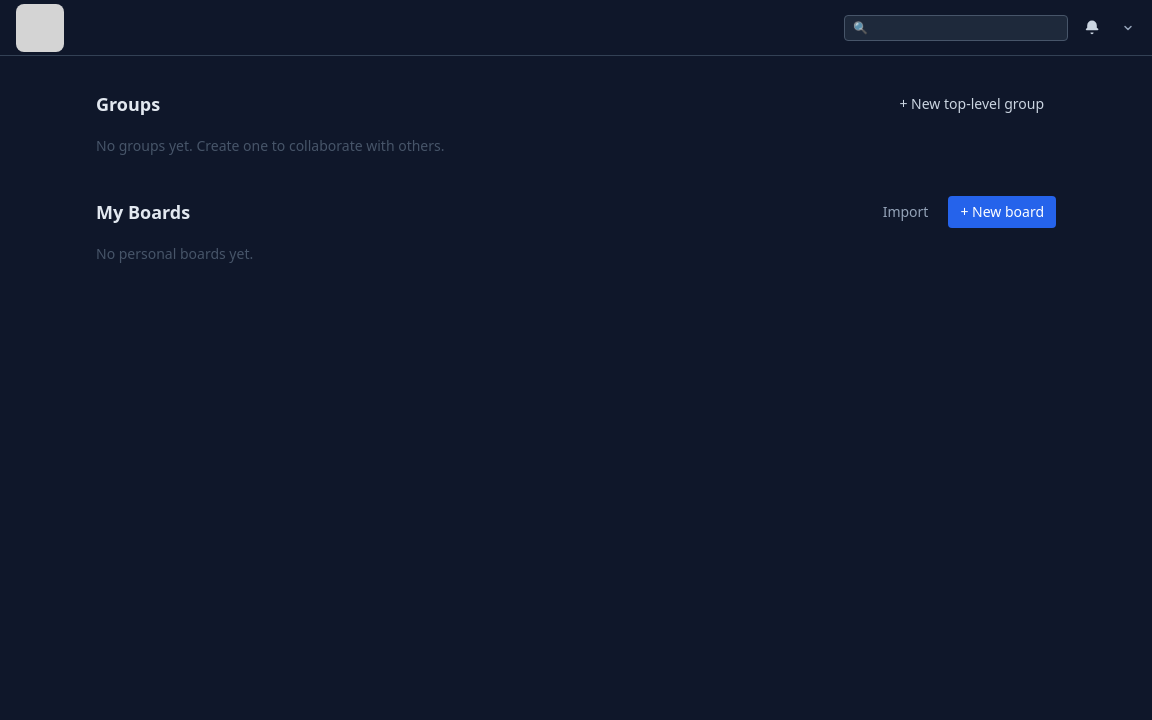
Test: Dashboard › opens import modal on import click
Click the button "Import" at (906,212), box [871,196,940,228]
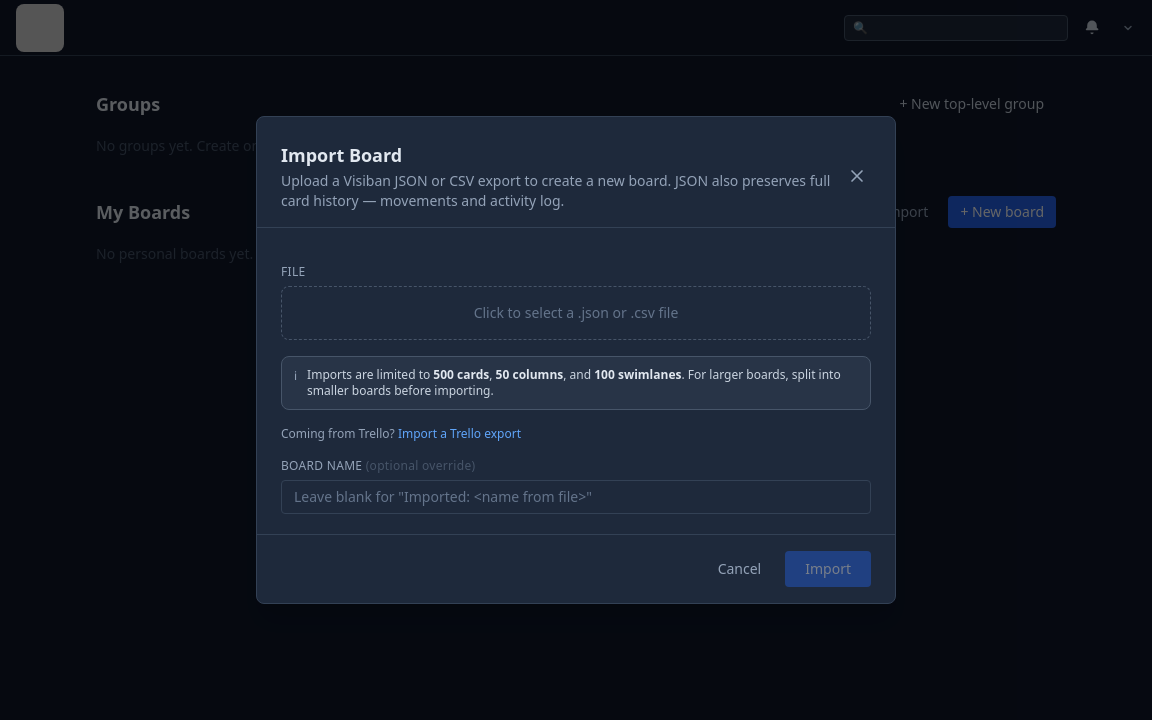
Expected: the heading "Import Board" is shown, [281,143,402,167]
